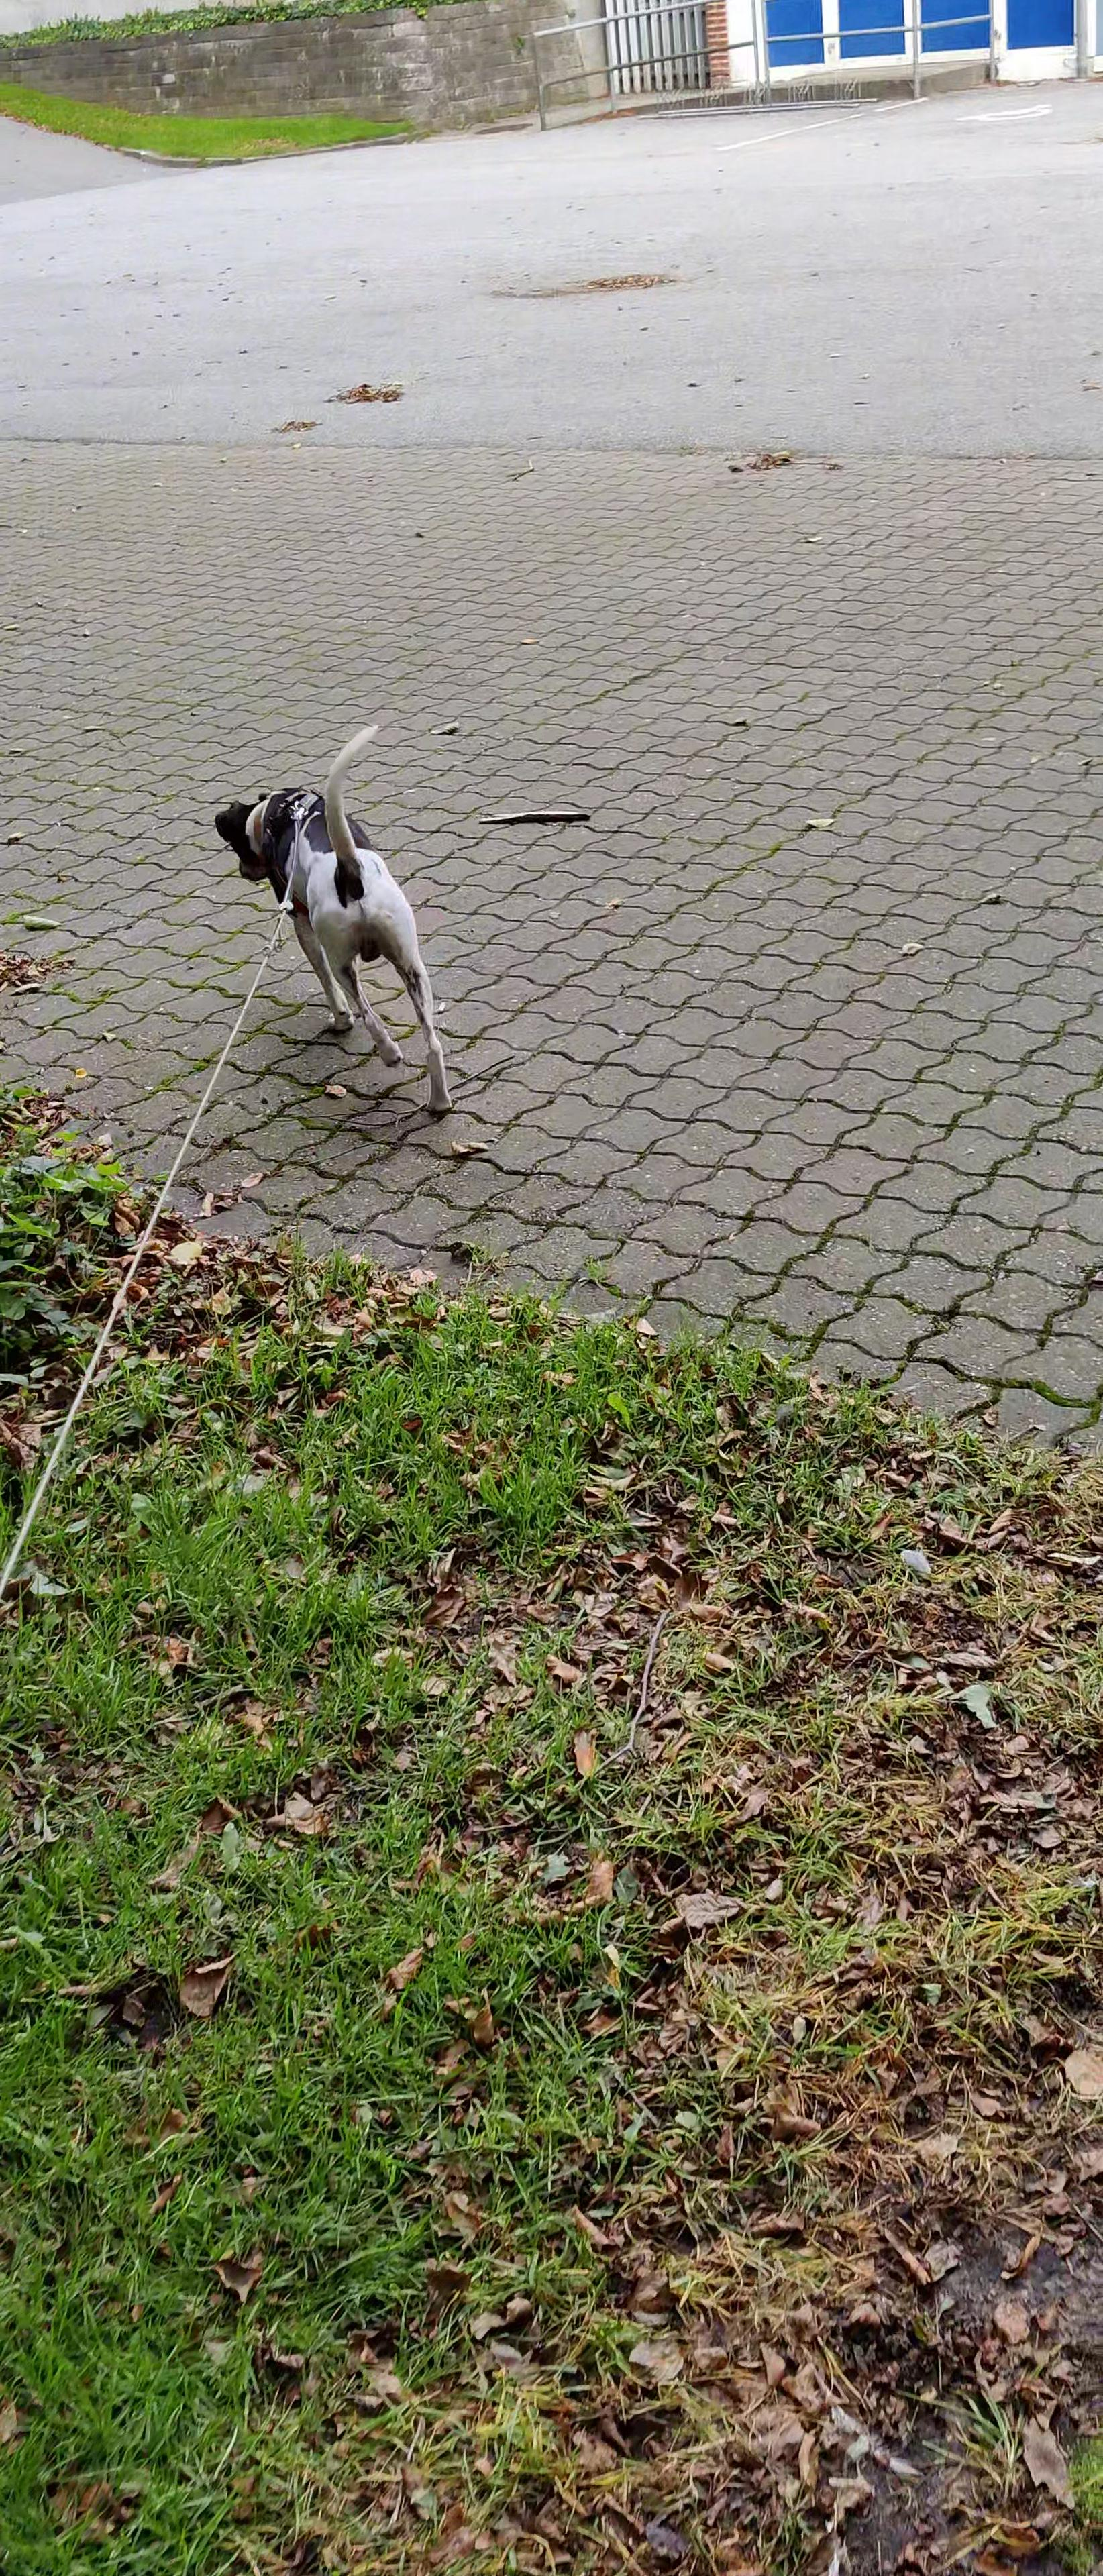Dog: (209, 721, 465, 1119)
